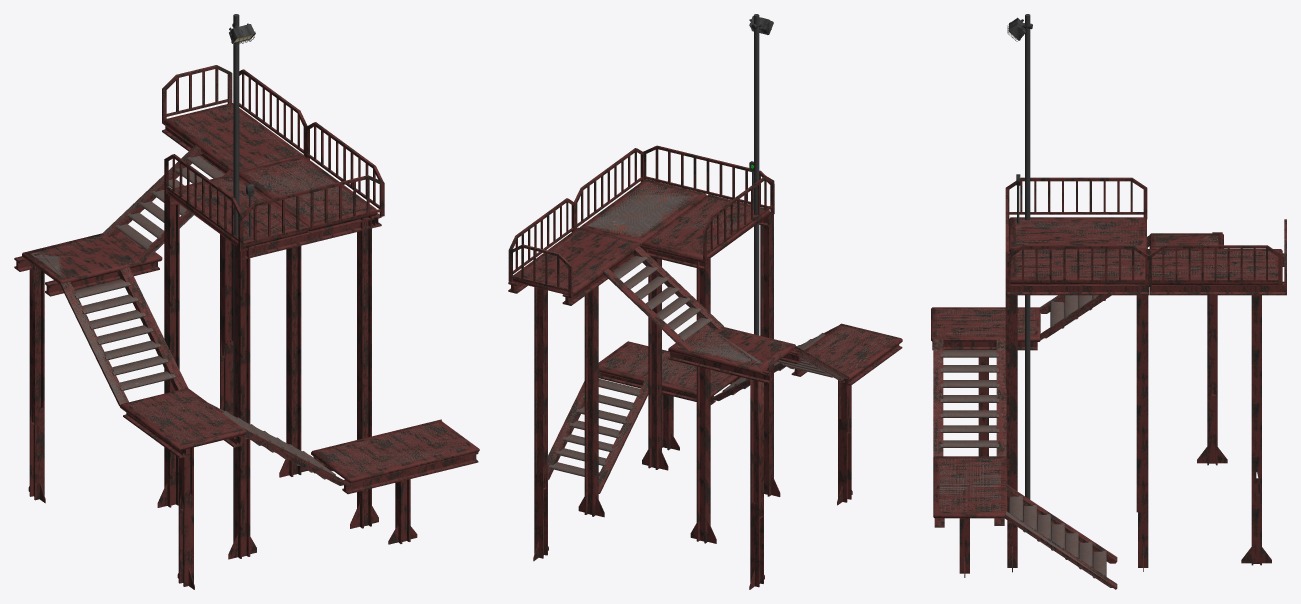
Rendered from Boot_Tower.fbx.
The picture shows the model from 3 angles, left to right: view 1: azimuth 30°, elevation 25°; view 2: azimuth 150°, elevation 25°; view 3: azimuth 270°, elevation 25°; orthographic projection. The views are drawn at different scales.
Visible parts, largest first — view 1: Group1; view 2: Group1; view 3: Group1.
Part boxes in pixels (x1=…): Group1: x1=14, y1=14, x2=479, y2=589; Group1: x1=508, y1=14, x2=902, y2=589; Group1: x1=931, y1=14, x2=1286, y2=589.
Size of the model in its own units: 335 by 547 by 356.
